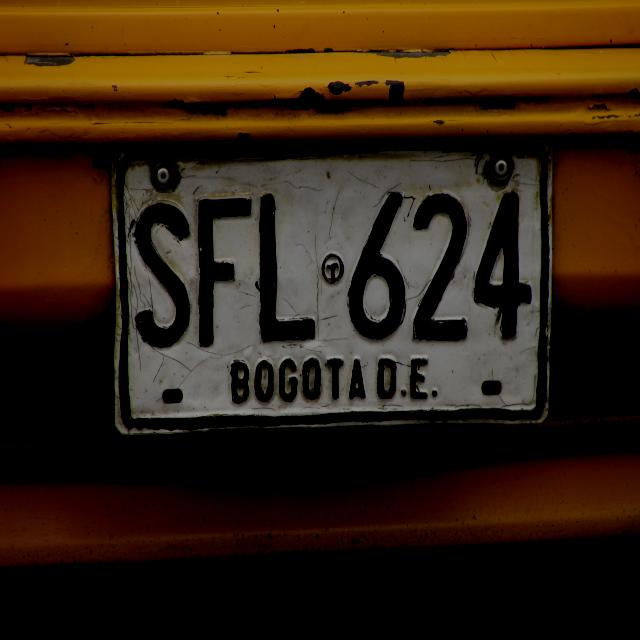placa: (105, 133, 557, 440)
